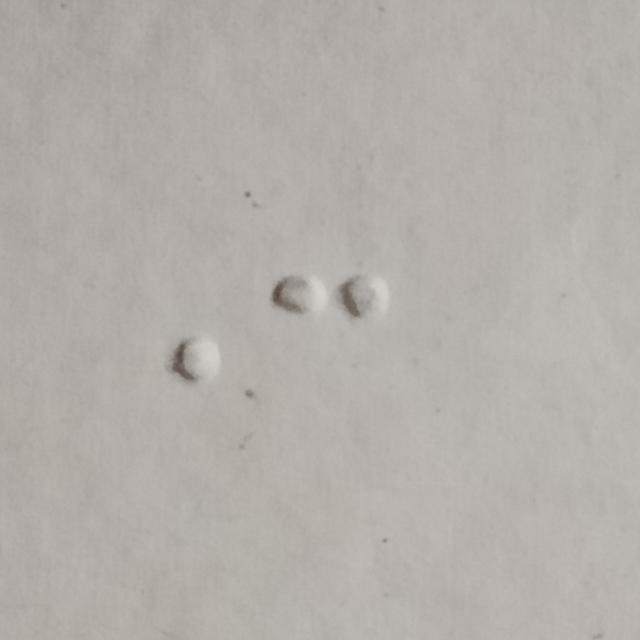dot_5: (109, 266, 222, 448)
karaniwan: (273, 270, 394, 450)
